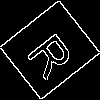R: (25, 25, 83, 82)
